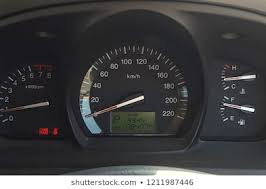Digital_Meter: (110, 114, 157, 130)
